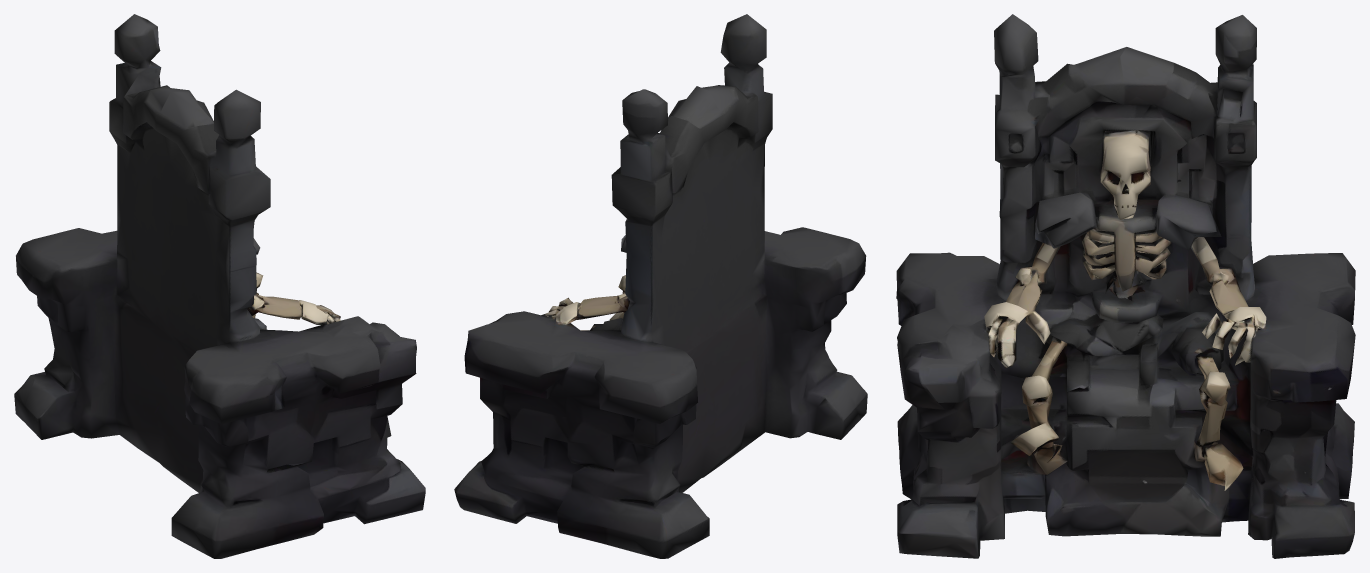
Rendered from throne.glb.
3 views of the same model, side by side, from view 1: azimuth 30°, elevation 25°; view 2: azimuth 150°, elevation 25°; view 3: azimuth 270°, elevation 25° (orthographic). The views are drawn at different scales.
Parts seen in each view (by area): view 1: tripo_node_4ff46ba5-7c38-4de9-b4bf-7478b02a6d04; view 2: tripo_node_4ff46ba5-7c38-4de9-b4bf-7478b02a6d04; view 3: tripo_node_4ff46ba5-7c38-4de9-b4bf-7478b02a6d04.
Part boxes in pixels (bbox=[...]): tripo_node_4ff46ba5-7c38-4de9-b4bf-7478b02a6d04: bbox=[14, 14, 425, 558]; tripo_node_4ff46ba5-7c38-4de9-b4bf-7478b02a6d04: bbox=[454, 14, 867, 558]; tripo_node_4ff46ba5-7c38-4de9-b4bf-7478b02a6d04: bbox=[896, 14, 1355, 558].
Bounding box in the file's own units: 0.5804 × 1 × 0.895.
Materials: 1 (1 with a texture image).
